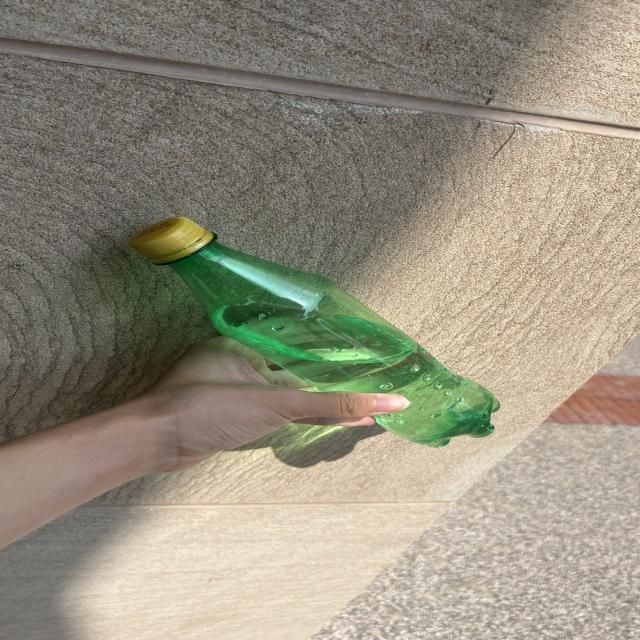medium: (130, 217, 498, 446)
